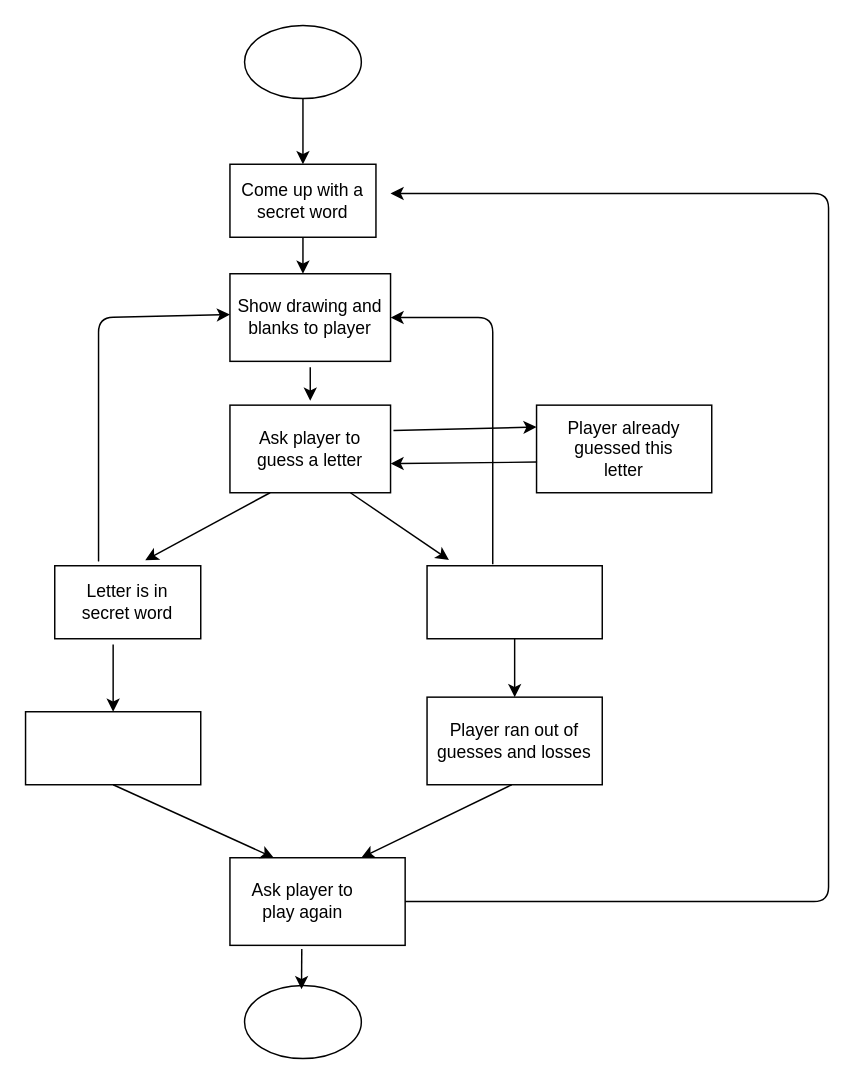
Image size: 866x1085. Some labels were removed from this diagram. Here are the shapes that lost their labels. From the top down, the box of each, then its label:
(243, 24, 361, 99): Start
(426, 564, 602, 639): Letter is not in secret word
(24, 710, 201, 785): Played guessed all letters and wins
(243, 984, 361, 1058): End
